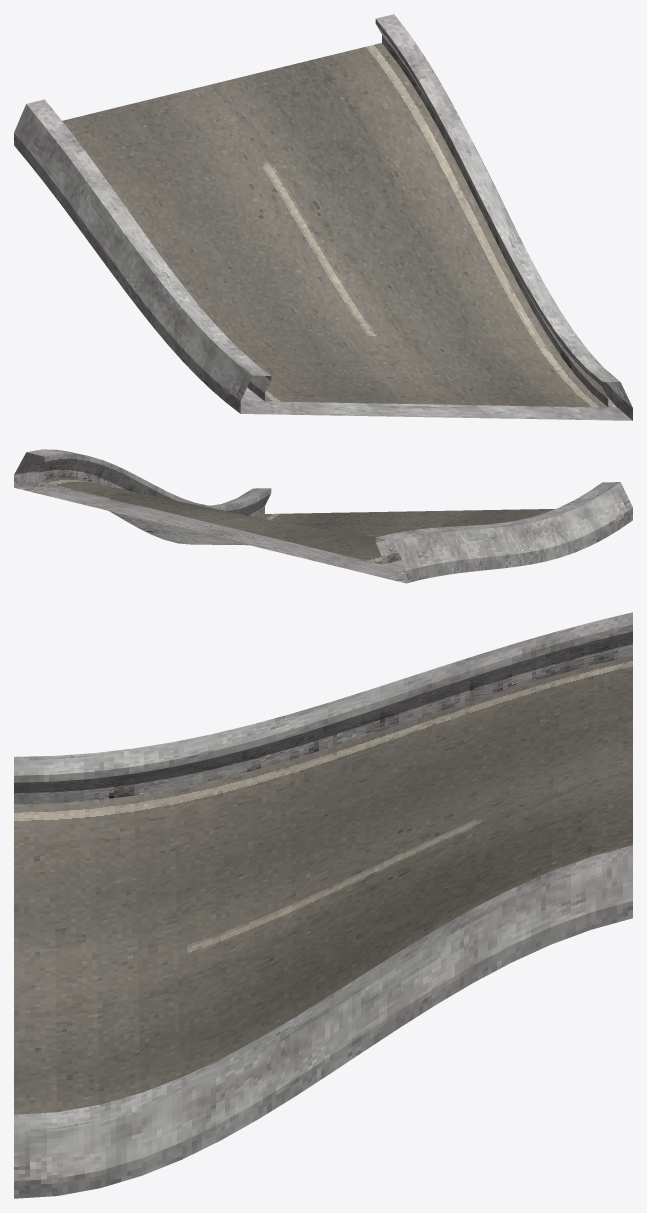
File: road-Straight-HalfBankedRight-BiSlopeUp-Up2-Center-Size1.glb
3 renders of one model, top to bottom at view 1: azimuth 30°, elevation 25°; view 2: azimuth 150°, elevation 25°; view 3: azimuth 270°, elevation 25°, orthographic. The views are drawn at different scales.
Visible parts, largest first — view 1: road-Straight-HalfBankedRight-BiSlopeUp-Up2-Center-Size1; view 2: road-Straight-HalfBankedRight-BiSlopeUp-Up2-Center-Size1; view 3: road-Straight-HalfBankedRight-BiSlopeUp-Up2-Center-Size1.
Boxes of the visible parts, x1,y1,x2,y2 form: road-Straight-HalfBankedRight-BiSlopeUp-Up2-Center-Size1: (14,14,632,420); road-Straight-HalfBankedRight-BiSlopeUp-Up2-Center-Size1: (14,449,632,583); road-Straight-HalfBankedRight-BiSlopeUp-Up2-Center-Size1: (14,612,632,1198).
Bounding box in the file's own units: 1 × 0.5937 × 1.
2 materials, 2 textured.
